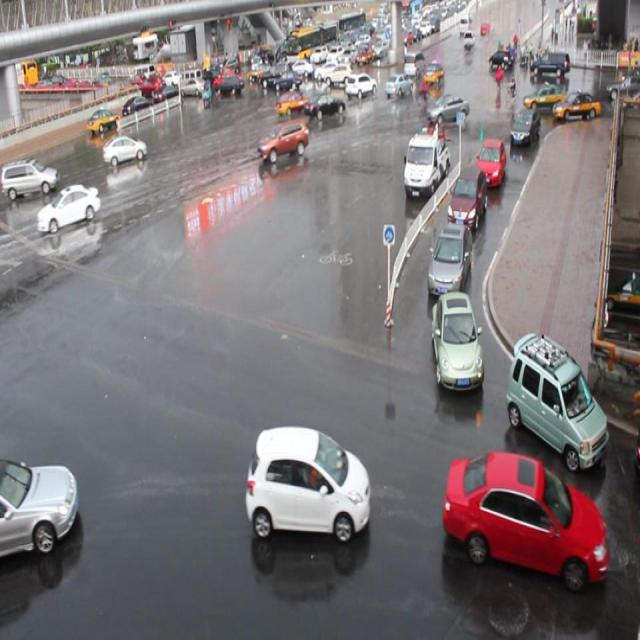bus: (402, 128, 448, 198)
car: (442, 450, 606, 586), (503, 327, 609, 472), (244, 424, 370, 540), (1, 455, 78, 557), (430, 287, 483, 387), (427, 221, 472, 295), (37, 184, 101, 233), (447, 164, 486, 228), (258, 120, 307, 161), (475, 136, 505, 185), (103, 134, 148, 166), (425, 92, 469, 124), (521, 82, 567, 111), (509, 106, 539, 148), (305, 91, 346, 119), (275, 88, 309, 112), (345, 73, 377, 98)
truck: (1, 157, 59, 194)
